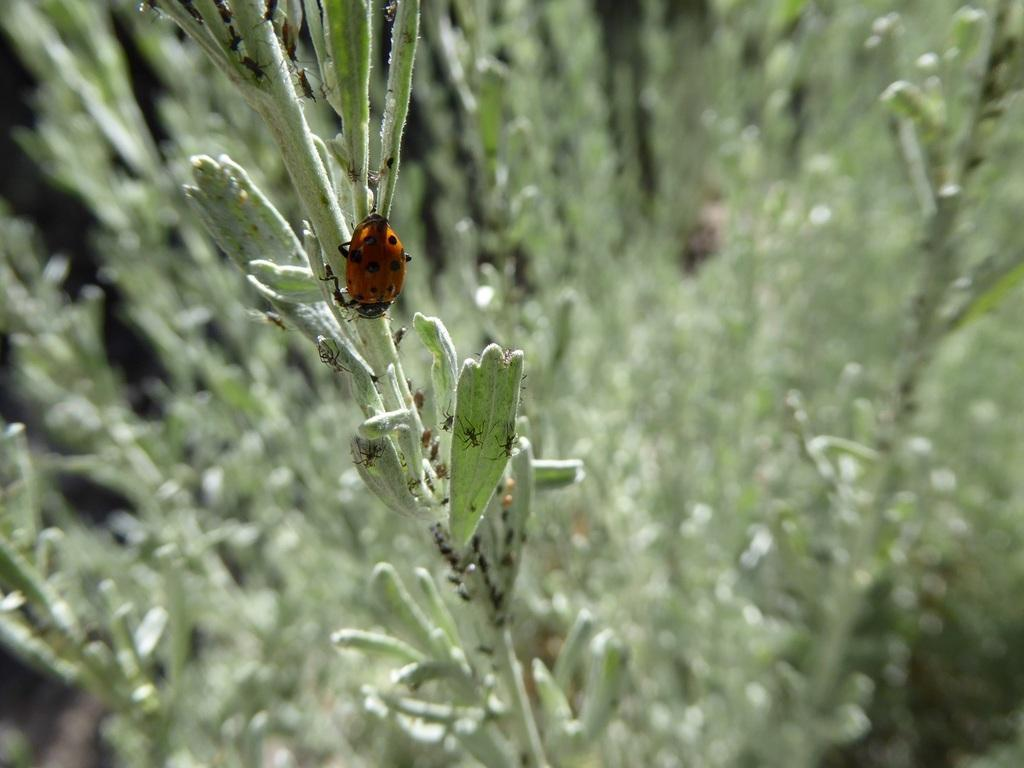ladybug: (317, 213, 416, 324)
